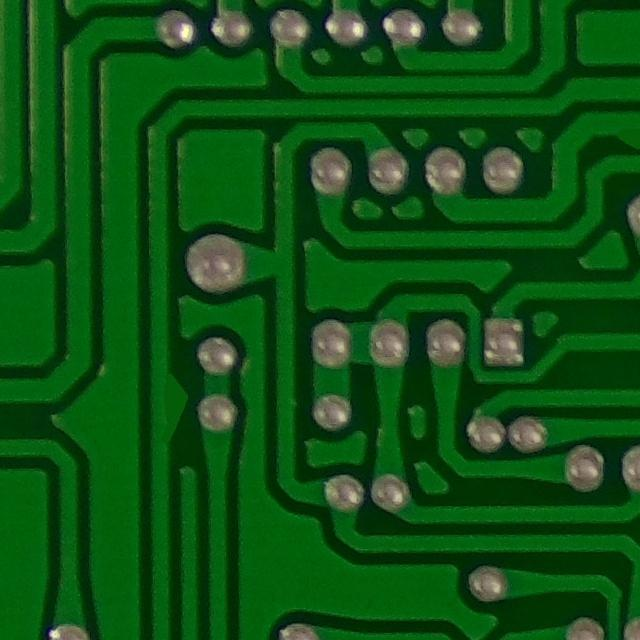spur: (136, 352, 197, 462)
